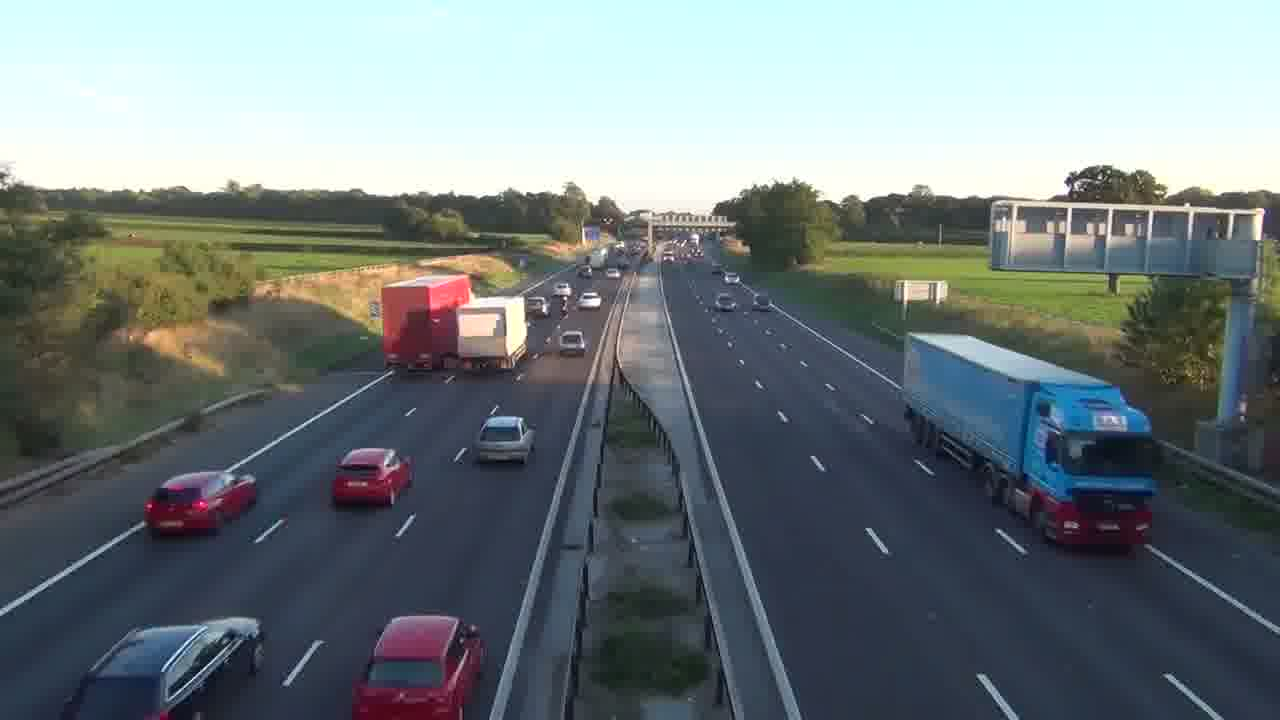car: (60, 616, 266, 719), (350, 612, 485, 719), (144, 469, 257, 538), (331, 447, 414, 509), (474, 414, 536, 464), (559, 329, 587, 357), (578, 290, 602, 309), (715, 292, 737, 311)
truck: (900, 332, 1158, 552), (381, 273, 473, 371), (458, 295, 529, 371)
